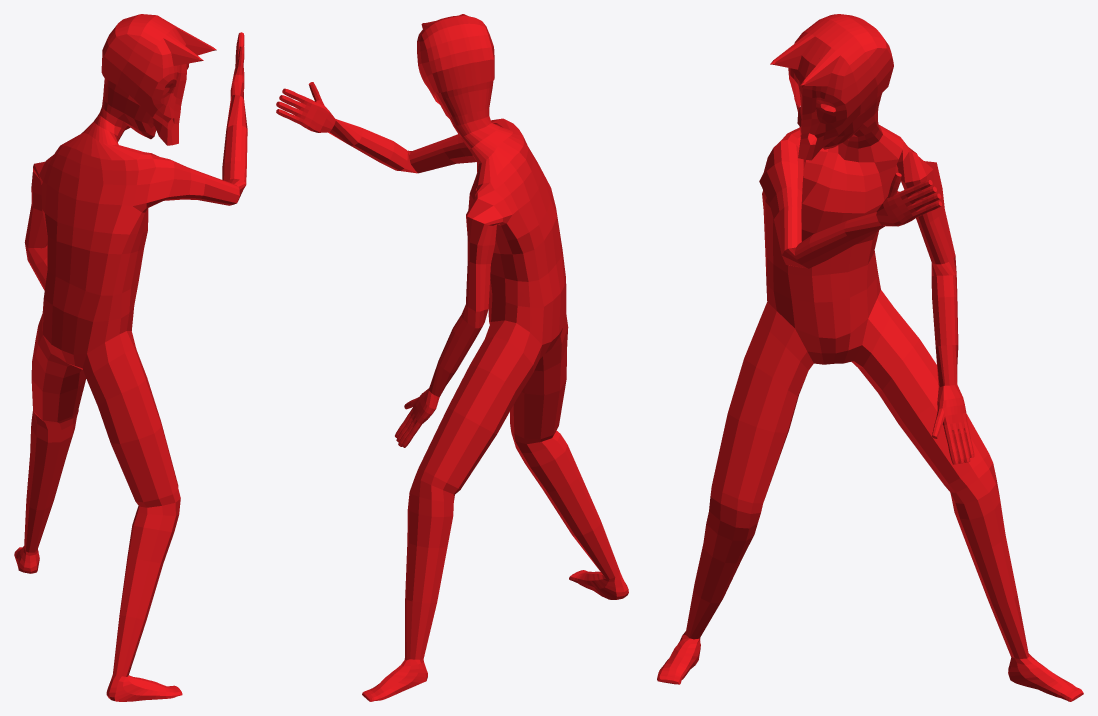
The model's file is activaAlarma_000130.obj.
3 renders of one model, left to right at view 1: azimuth 30°, elevation 25°; view 2: azimuth 150°, elevation 25°; view 3: azimuth 270°, elevation 25°, orthographic. The views are drawn at different scales.
Visible parts, largest first — view 1: Plane.002_Plane.001; view 2: Plane.002_Plane.001; view 3: Plane.002_Plane.001.
Boxes of the visible parts, <box> form: Plane.002_Plane.001: <box>14,14,247,701</box>; Plane.002_Plane.001: <box>276,14,628,701</box>; Plane.002_Plane.001: <box>657,14,1083,701</box>.
Size of the model in its own units: 2.79 by 6.66 by 3.74.
